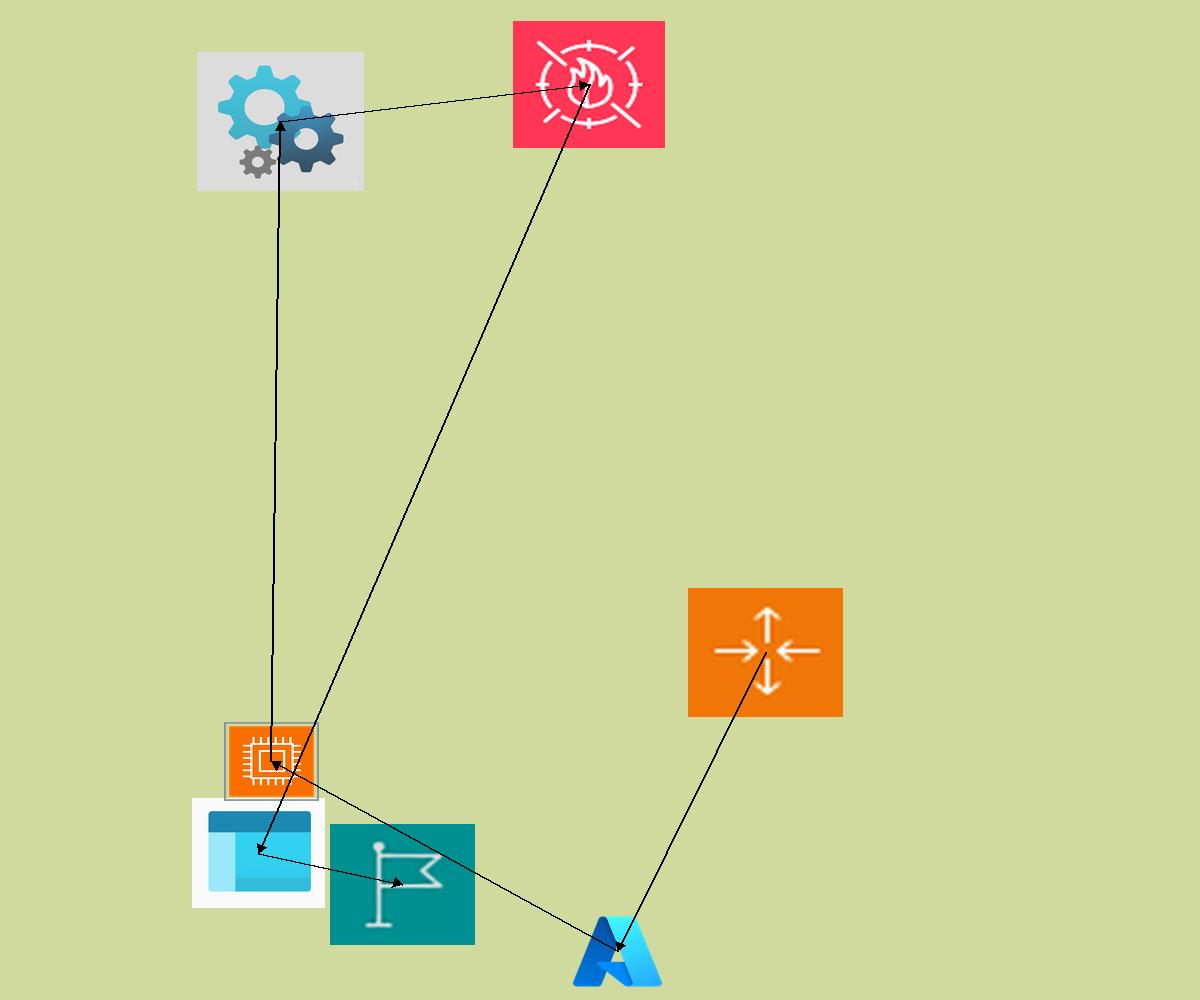AWS-Category_Compute: (224, 722, 319, 801)
AWS-Region: (330, 824, 475, 945)
AWS-Scaling-group: (688, 588, 843, 717)
AWS-WAF: (513, 21, 665, 148)
Azure_api: (197, 52, 364, 191)
Azure_management-portal: (192, 798, 325, 908)
Azure_services: (569, 911, 666, 992)
